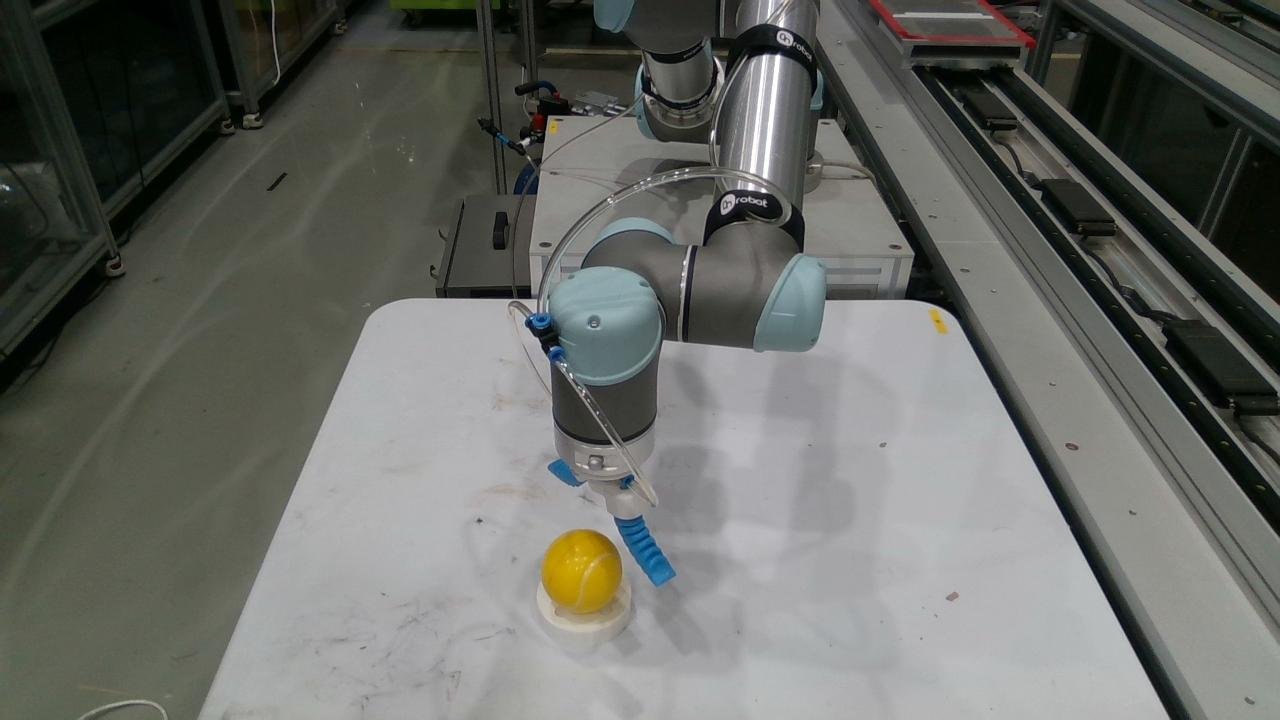UR5: (547, 0, 825, 519)
gripper_left: (547, 459, 582, 488)
gripper_right: (614, 516, 675, 586)
target: (535, 576, 634, 646), (541, 530, 622, 613)
